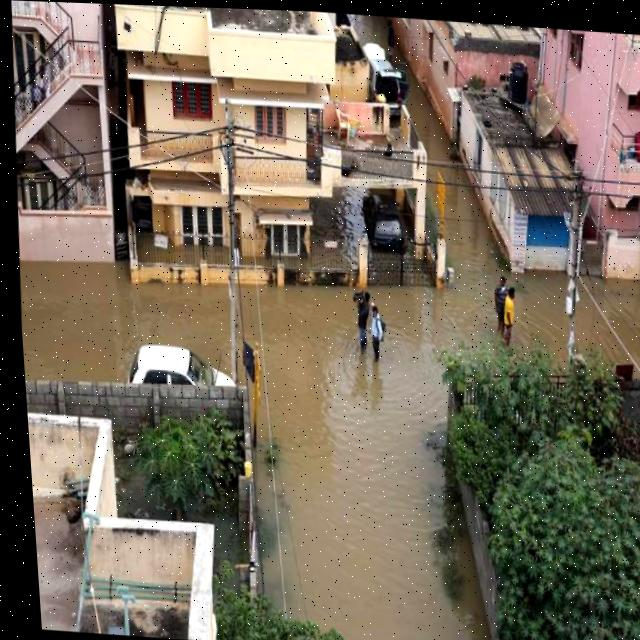civilian: (362, 297, 396, 375), (349, 282, 376, 354), (497, 288, 522, 343), (493, 275, 509, 315)
